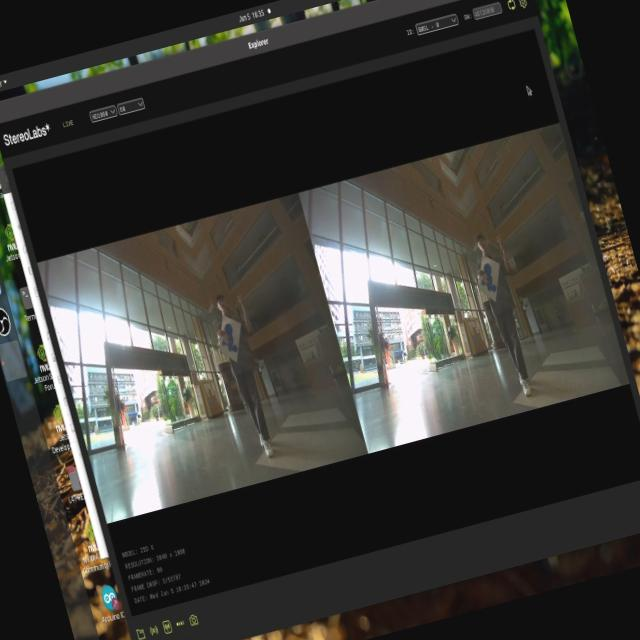blue: (474, 260, 503, 300), (220, 322, 243, 356)
